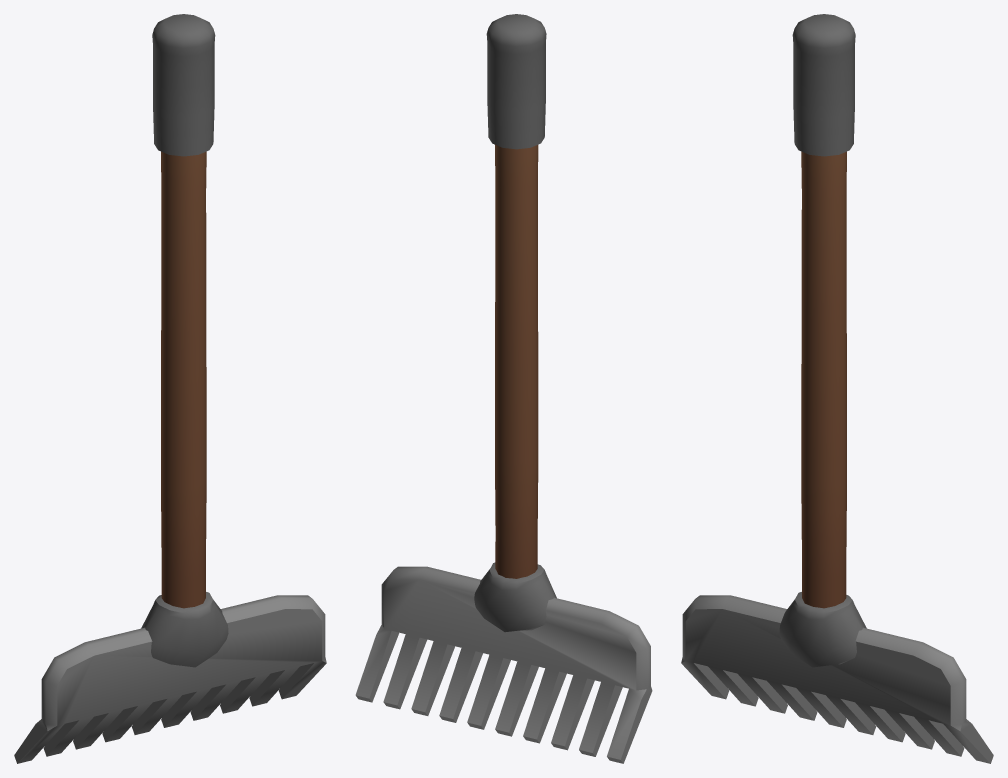
Rendered from Rake.fbx.
3 views of the same model, side by side, from view 1: azimuth 30°, elevation 25°; view 2: azimuth 150°, elevation 25°; view 3: azimuth 330°, elevation 25° (orthographic). The views are drawn at different scales.
Parts seen in each view (by area): view 1: Rake; view 2: Rake; view 3: Rake.
Boxes of the visible parts, x1,y1,x2,y2 form: Rake: (14, 14, 326, 763); Rake: (355, 14, 652, 763); Rake: (681, 14, 993, 763).
Size of the model in its own units: 0.8767 by 2.18 by 0.2489.
